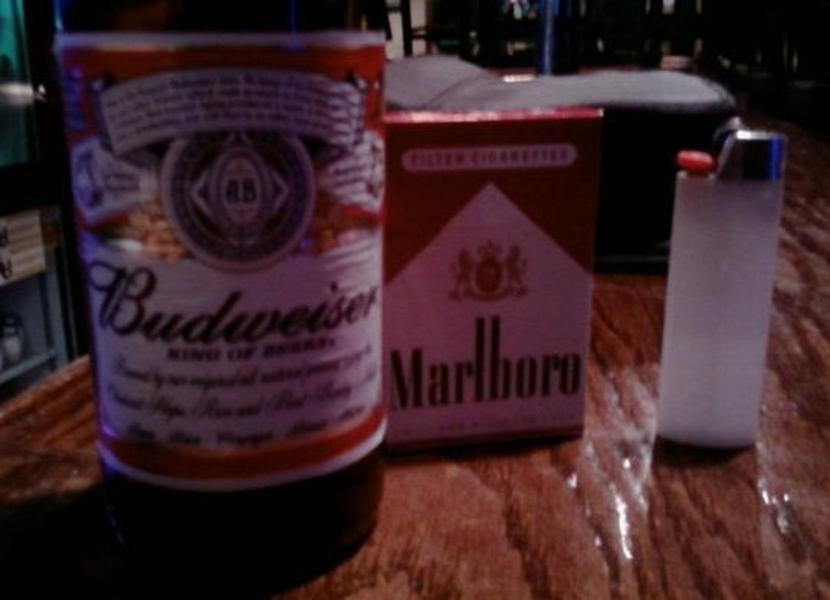marlboro_red: (376, 116, 584, 436)
